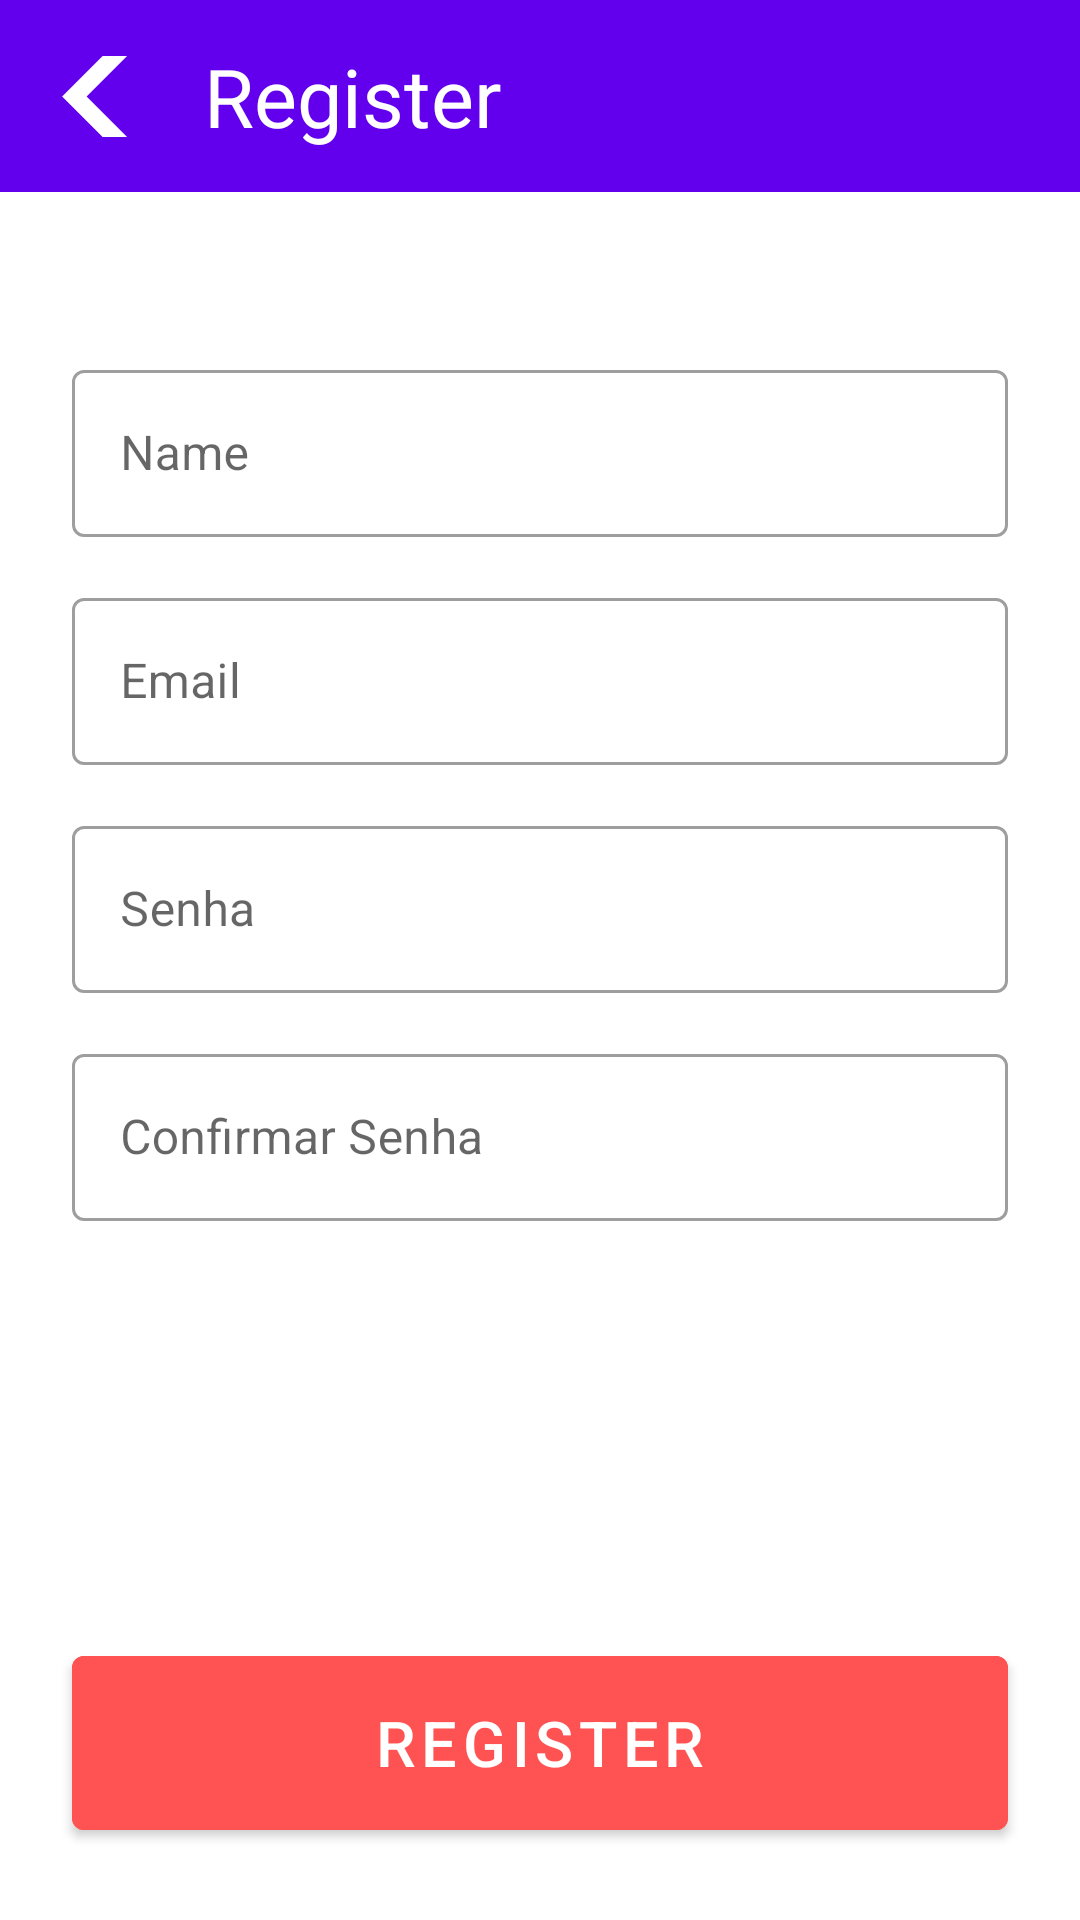

Point at icon controls on the screen. Image size 1080x1920, points as point (x, y).
keyboard left arrow: point (94, 96)
